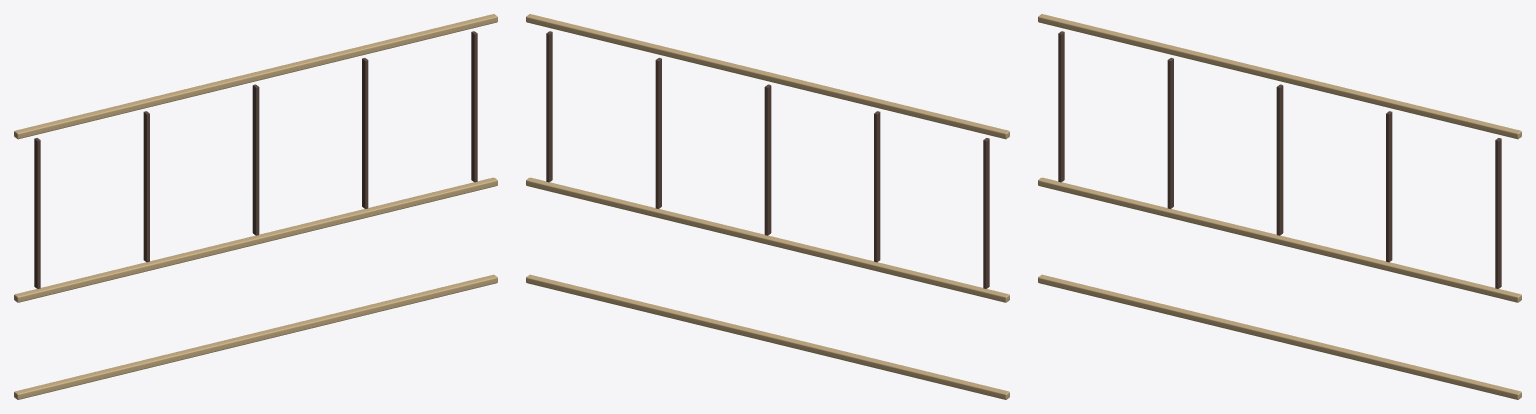
The model's file is WallMolding.fbx.
3 renders of one model, left to right at view 1: azimuth 30°, elevation 25°; view 2: azimuth 150°, elevation 25°; view 3: azimuth 330°, elevation 25°, orthographic.
Parts seen in each view (by area): view 1: MoldingHorizontal, MoldingHorizontal.002, MoldingHorizontal.001, MoldingVertical.002, MoldingVertical.001, MoldingVertical.004, MoldingVertical, MoldingVertical.003; view 2: MoldingHorizontal, MoldingHorizontal.002, MoldingHorizontal.001, MoldingVertical.002, MoldingVertical.001, MoldingVertical.004, MoldingVertical, MoldingVertical.003; view 3: MoldingHorizontal, MoldingHorizontal.002, MoldingHorizontal.001, MoldingVertical.002, MoldingVertical, MoldingVertical.003, MoldingVertical.004, MoldingVertical.001.
Part boxes in pixels (x1,y1,x2,y2): MoldingHorizontal: (14,274,497,399); MoldingHorizontal.002: (14,14,497,139); MoldingHorizontal.001: (14,177,497,302); MoldingVertical.002: (252,84,259,235); MoldingVertical.001: (143,111,149,262); MoldingVertical.004: (471,31,477,182); MoldingVertical: (34,138,40,288); MoldingVertical.003: (362,58,368,208); MoldingHorizontal: (526,274,1009,399); MoldingHorizontal.002: (526,14,1009,139); MoldingHorizontal.001: (526,177,1009,302); MoldingVertical.002: (764,84,771,235); MoldingVertical.001: (874,111,880,262); MoldingVertical.004: (546,31,552,182); MoldingVertical: (983,138,989,288); MoldingVertical.003: (655,58,661,208); MoldingHorizontal: (1038,274,1521,399); MoldingHorizontal.002: (1038,14,1521,139); MoldingHorizontal.001: (1038,177,1521,302); MoldingVertical.002: (1276,84,1283,235); MoldingVertical: (1058,31,1064,182); MoldingVertical.003: (1386,111,1392,262); MoldingVertical.004: (1495,138,1501,288); MoldingVertical.001: (1167,58,1173,208).
Bounding box in the file's own units: 440 × 234 × 6.5.
